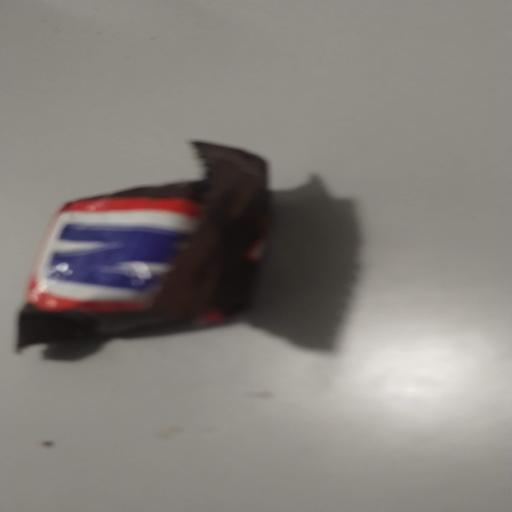chocolate: (18, 143, 269, 349)
